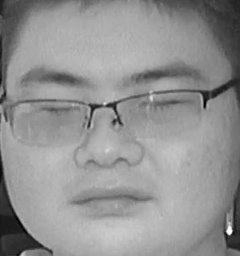blink: (134, 98, 182, 113), (39, 102, 78, 118)
glass: (110, 87, 207, 141), (11, 95, 92, 148)
mouth: (65, 180, 146, 217)
